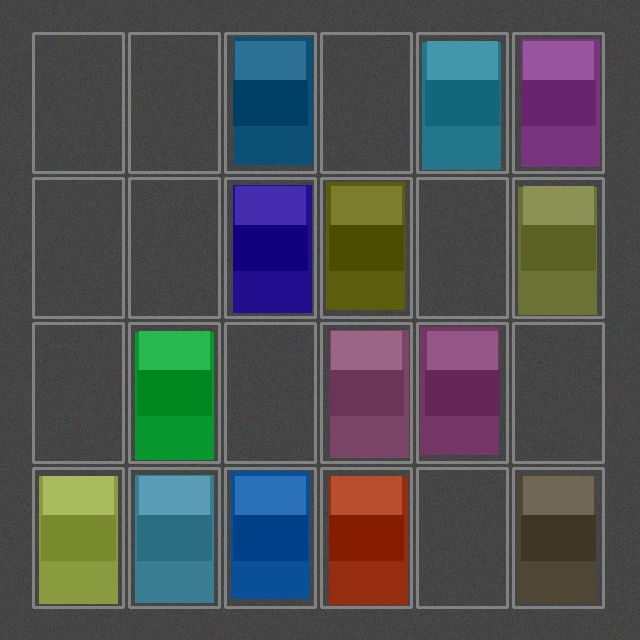space-empty: (35, 35, 121, 170), (131, 35, 217, 170), (323, 35, 409, 170), (35, 180, 121, 315), (131, 180, 217, 315), (419, 180, 505, 315), (35, 325, 121, 460), (227, 325, 313, 460), (515, 325, 601, 460), (419, 470, 505, 605)
space-occupied: (227, 35, 313, 170), (419, 35, 505, 170), (515, 35, 601, 170), (227, 180, 313, 315), (323, 180, 409, 315), (515, 180, 601, 315), (131, 325, 217, 460), (323, 325, 409, 460), (419, 325, 505, 460), (35, 470, 121, 605), (131, 470, 217, 605), (227, 470, 313, 605), (323, 470, 409, 605), (515, 470, 601, 605)
